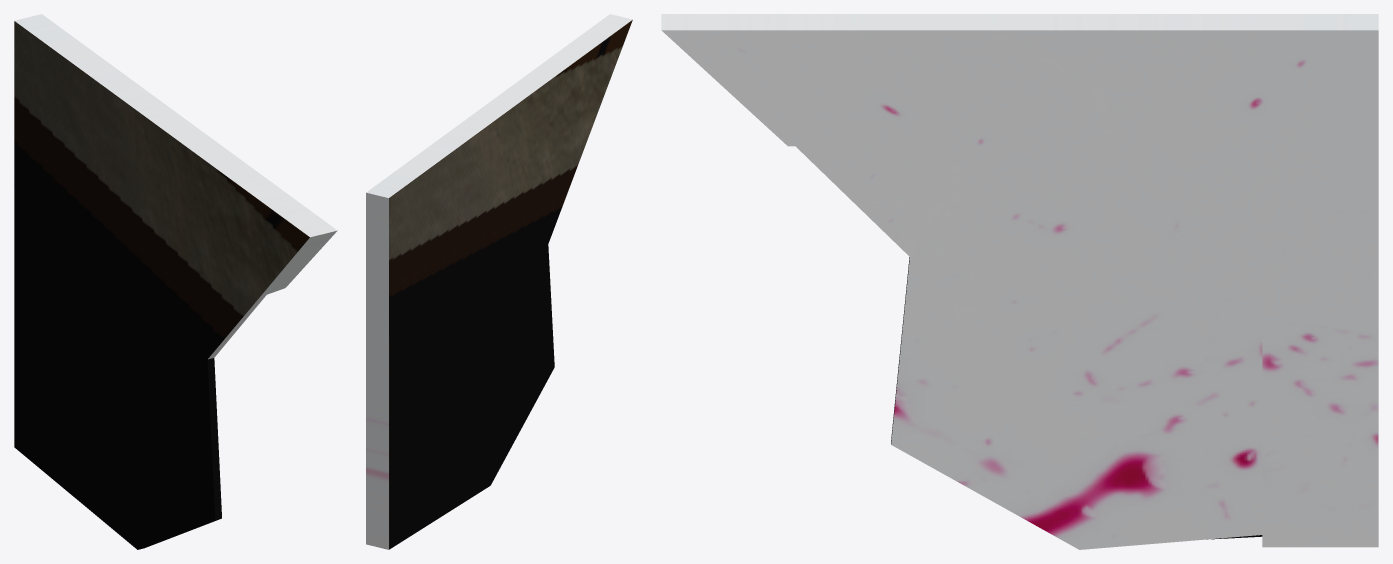
The model's file is FotoFullP4.fbx.
3 views of the same model, side by side, from view 1: azimuth 30°, elevation 25°; view 2: azimuth 150°, elevation 25°; view 3: azimuth 270°, elevation 25° (orthographic). The views are drawn at different scales.
Visible parts, largest first — view 1: FotoFullP4; view 2: FotoFullP4; view 3: FotoFullP4.
Boxes of the visible parts, bbox=[...] form: FotoFullP4: bbox=[14, 14, 337, 549]; FotoFullP4: bbox=[366, 14, 632, 549]; FotoFullP4: bbox=[661, 14, 1378, 549].
Size of the model in its own units: 4 by 60.6 by 74.06.
